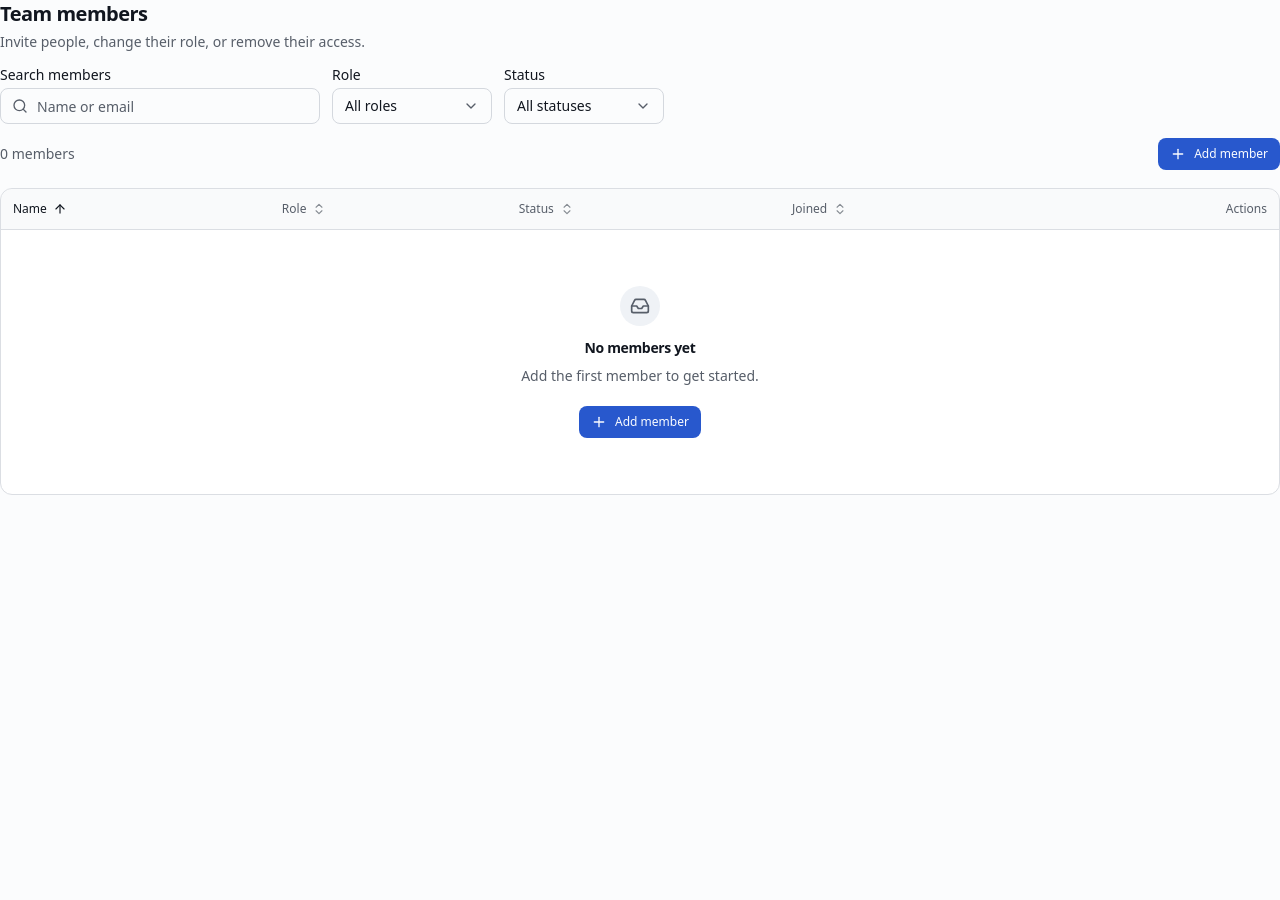
Test: CrudManagementPage › empty, loading, and error › invites the first member when there are none, and opens the form from there
This screenshot has width=1280, height=900.
Expected: the heading "No members yet" is shown, [584,338,696,358]
Click the button "Add member" below "Add the first member to get started." at coordinates (640, 422), box [579,406,701,438]
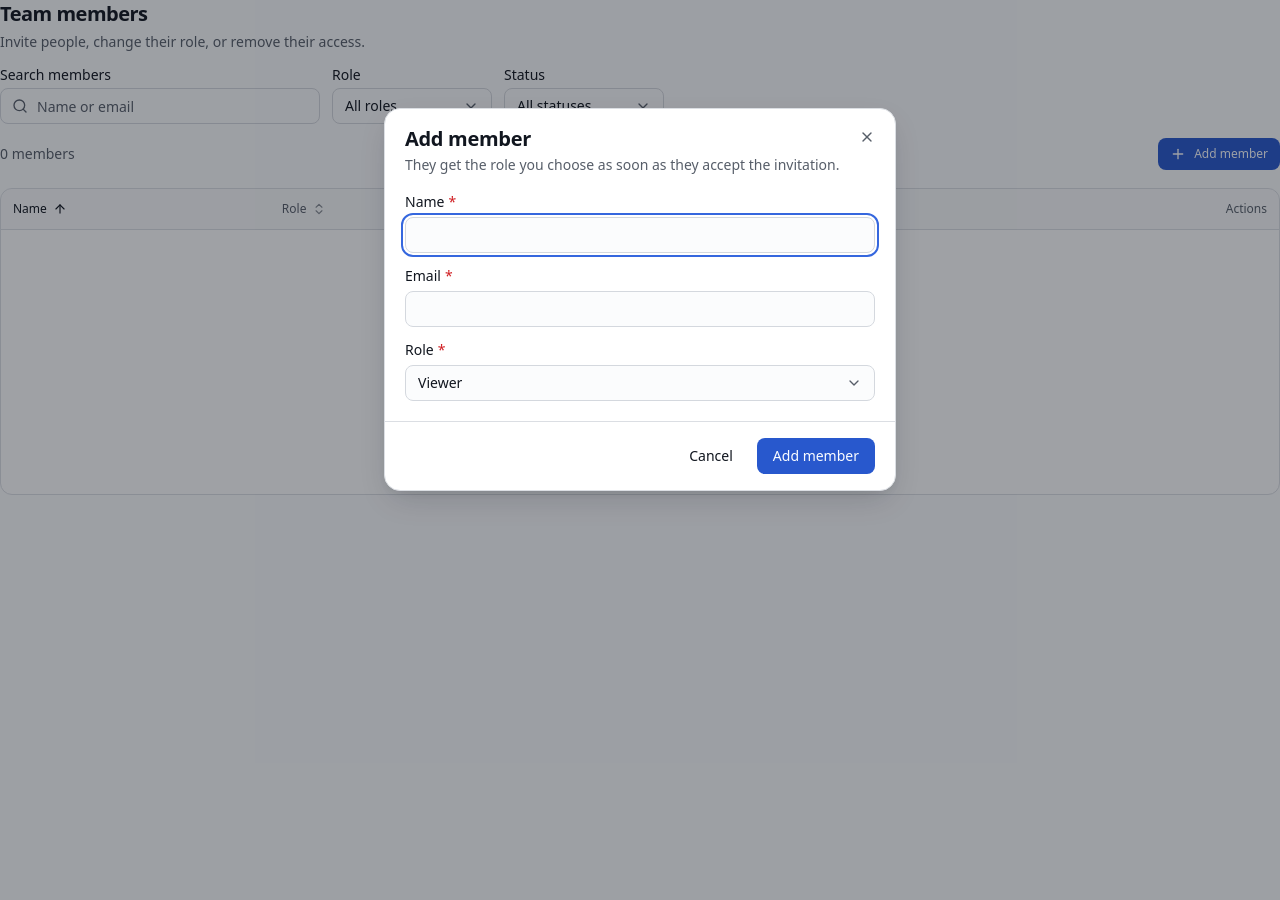
Expected: the dialog "Add member" is shown, [384,108,896,491]
